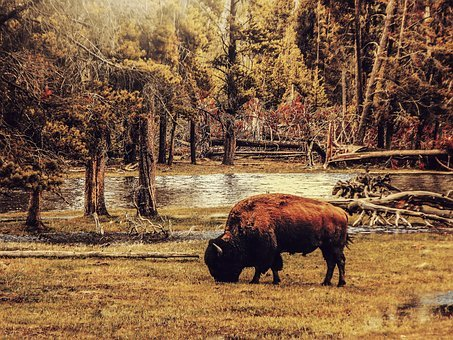cow: (192, 195, 358, 290)
field: (12, 231, 453, 339)
forest: (4, 4, 453, 165)
tree: (187, 1, 275, 165), (332, 1, 420, 165), (59, 15, 129, 213), (109, 22, 179, 220), (18, 28, 62, 230)
